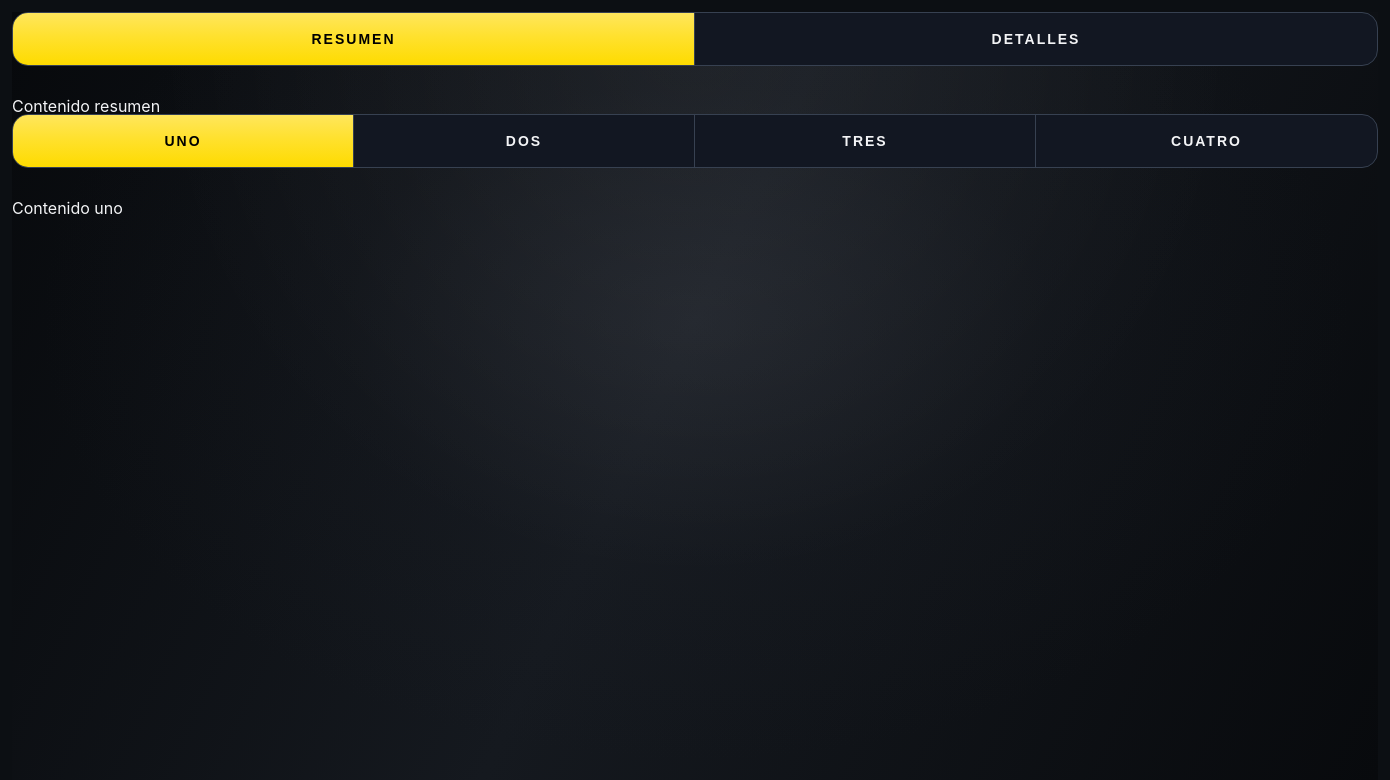
Test: TabsComponent › should lazy-load a panel only when its tab is clicked
Click the tab "Detalles".
click(1036, 39)  # box [695,13,1377,65]
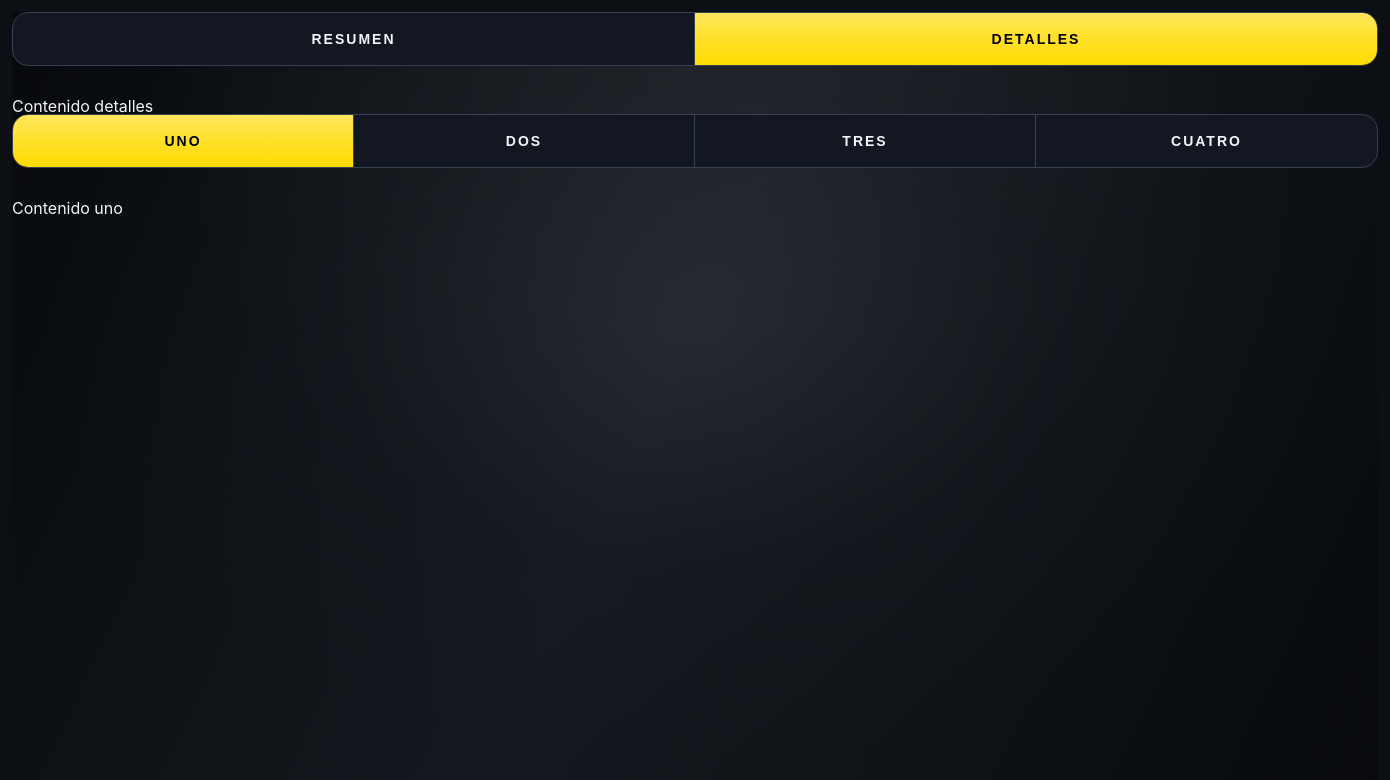
Expected: the text with class "summary-content" is gone
Expected: the text "Contenido detalles" is shown, [12,96,153,116]
